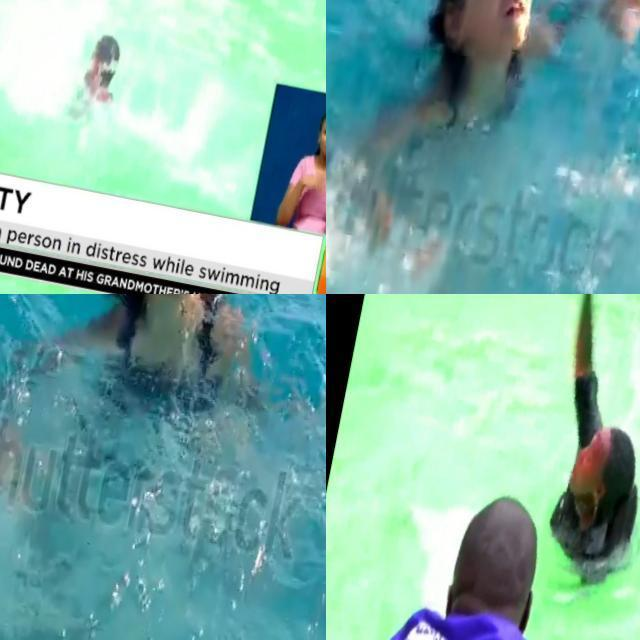3: (328, 0, 639, 272), (28, 294, 303, 466), (515, 300, 640, 589), (55, 21, 138, 139)
drowning: (341, 460, 640, 640)
